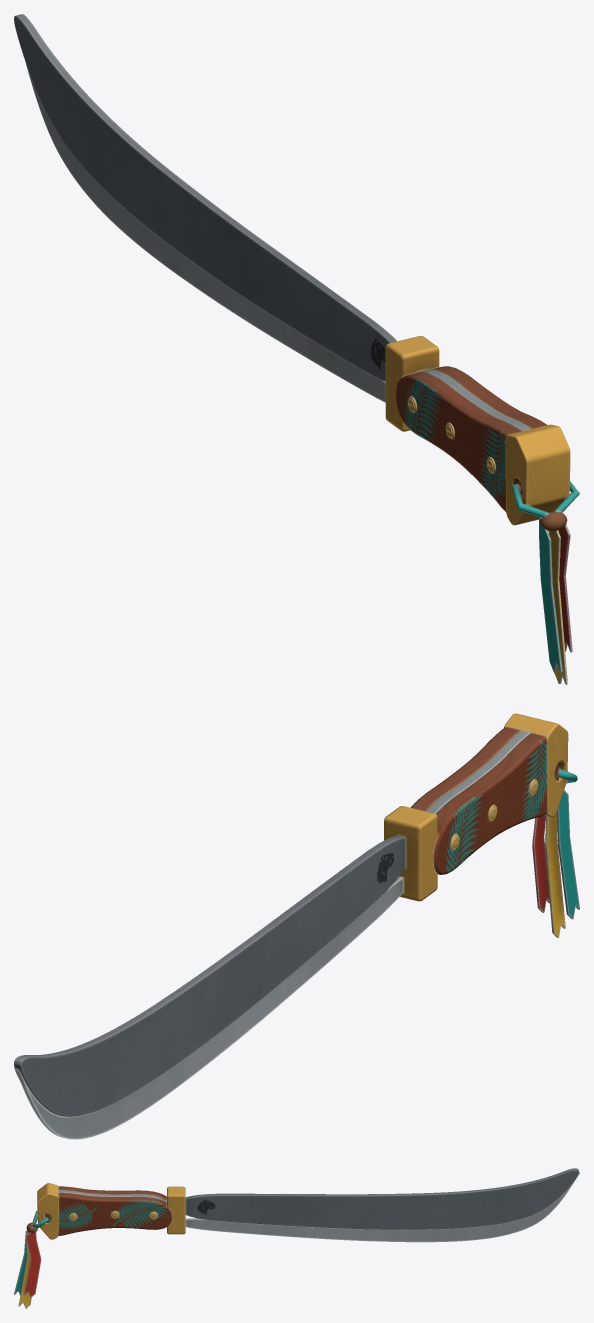
The model's file is machete.glb.
3 views of the same model, one above another, from view 1: azimuth 30°, elevation 25°; view 2: azimuth 150°, elevation 25°; view 3: azimuth 270°, elevation 25° (orthographic). The views are drawn at different scales.
Visible parts, largest first — view 1: machete_body, machete_ribbons; view 2: machete_body, machete_ribbons; view 3: machete_body, machete_ribbons.
Boxes of the visible parts, x1,y1,x2,y2 form: machete_body: (14, 14, 579, 531); machete_ribbons: (539, 517, 572, 684); machete_body: (14, 713, 577, 1139); machete_ribbons: (532, 790, 579, 937); machete_body: (26, 1168, 579, 1242); machete_ribbons: (14, 1228, 41, 1308).
Bounding box in the file's own units: 0.0444 × 0.1876 × 0.6898.
1 material, 1 textured.
